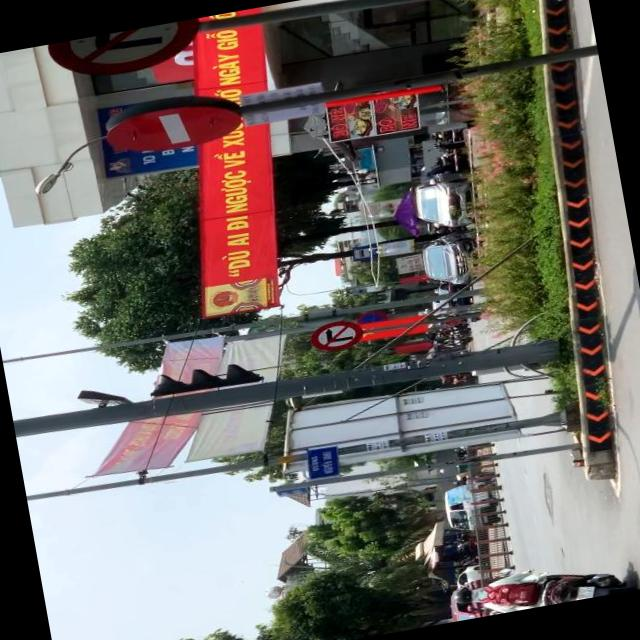P-102: (101, 98, 243, 158)
P-123b: (305, 317, 361, 355)
